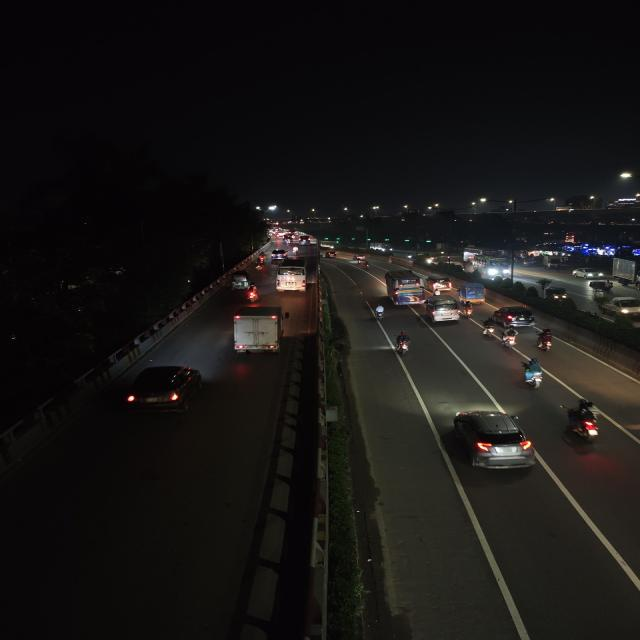bus: (382, 268, 426, 306), (274, 259, 310, 294), (469, 251, 510, 278)
car: (446, 405, 541, 474), (121, 362, 205, 418), (423, 296, 466, 325), (493, 304, 538, 330), (610, 296, 640, 317), (426, 276, 454, 294), (572, 266, 602, 280), (270, 249, 288, 261), (322, 249, 337, 259)
cng: (586, 279, 614, 299), (544, 284, 571, 302), (230, 270, 252, 288)
motorcycle: (562, 397, 606, 446), (516, 356, 549, 394), (480, 320, 520, 350), (534, 328, 559, 354), (392, 330, 415, 358), (370, 302, 387, 322), (244, 285, 260, 303), (256, 253, 267, 264), (290, 245, 300, 257), (255, 260, 266, 270), (361, 261, 372, 269)
truck: (226, 304, 291, 358), (613, 256, 640, 289), (457, 282, 488, 304), (545, 257, 565, 269)
